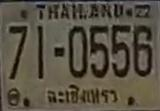0: (68, 25, 87, 77)
1: (37, 26, 43, 76)
5: (111, 24, 130, 77), (90, 25, 108, 77)
6: (132, 24, 152, 76)
7: (8, 25, 27, 78)
CCO: (42, 83, 121, 105)
